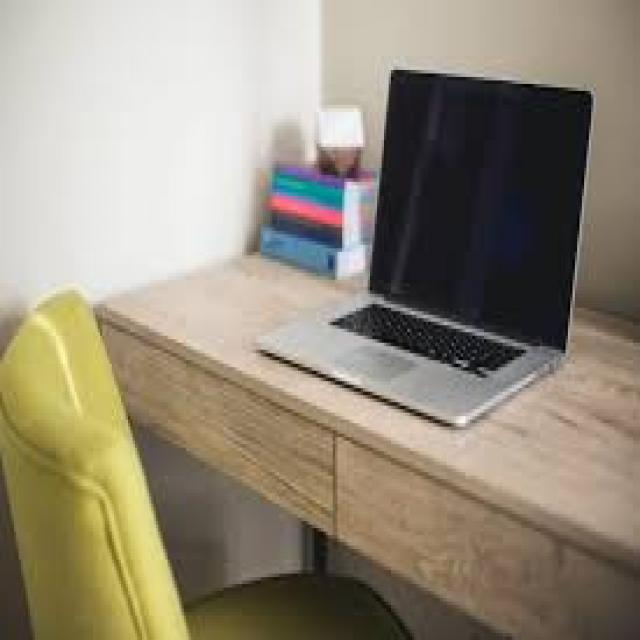Table: (77, 143, 640, 640)
